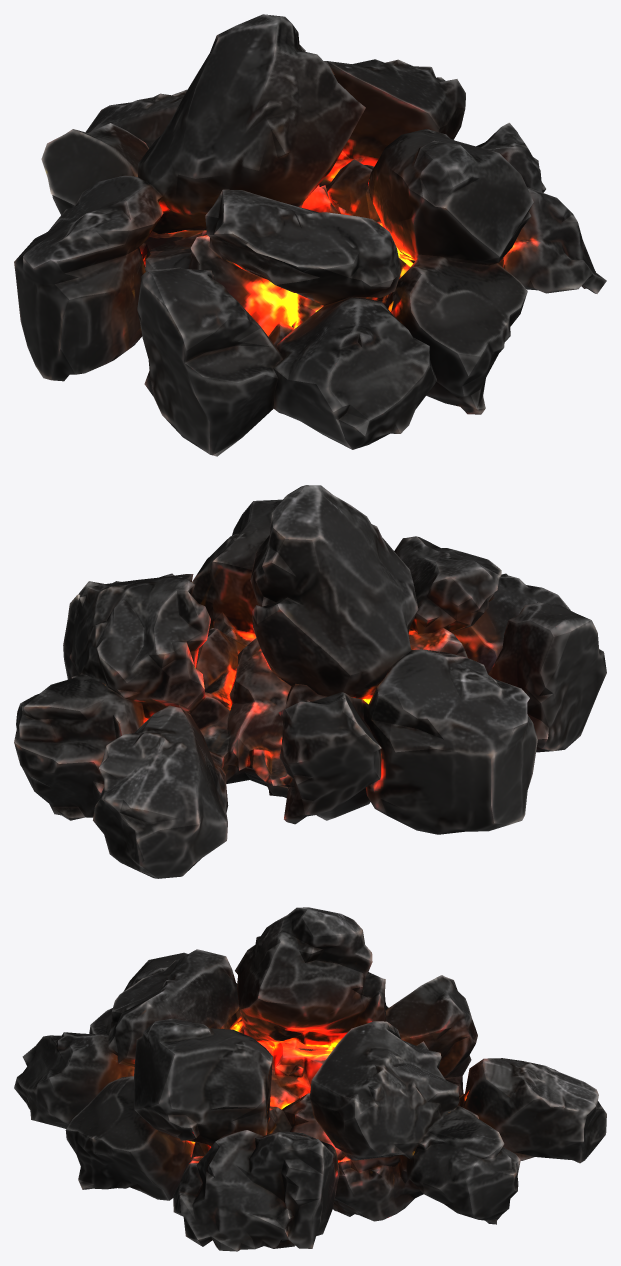
File: carbon_fogonero.glb
3 views of the same model, one above another, from view 1: azimuth 30°, elevation 25°; view 2: azimuth 150°, elevation 25°; view 3: azimuth 270°, elevation 25° (orthographic). The views are drawn at different scales.
Parts seen in each view (by area): view 1: Object_4; view 2: Object_4; view 3: Object_4.
Boxes of the visible parts, x1,y1,x2,y2 form: Object_4: (14, 14, 606, 456); Object_4: (14, 485, 606, 878); Object_4: (14, 907, 606, 1251).
Bounding box in the file's own units: 0.8077 × 0.4986 × 1.
Materials: 1 (1 with a texture image).
